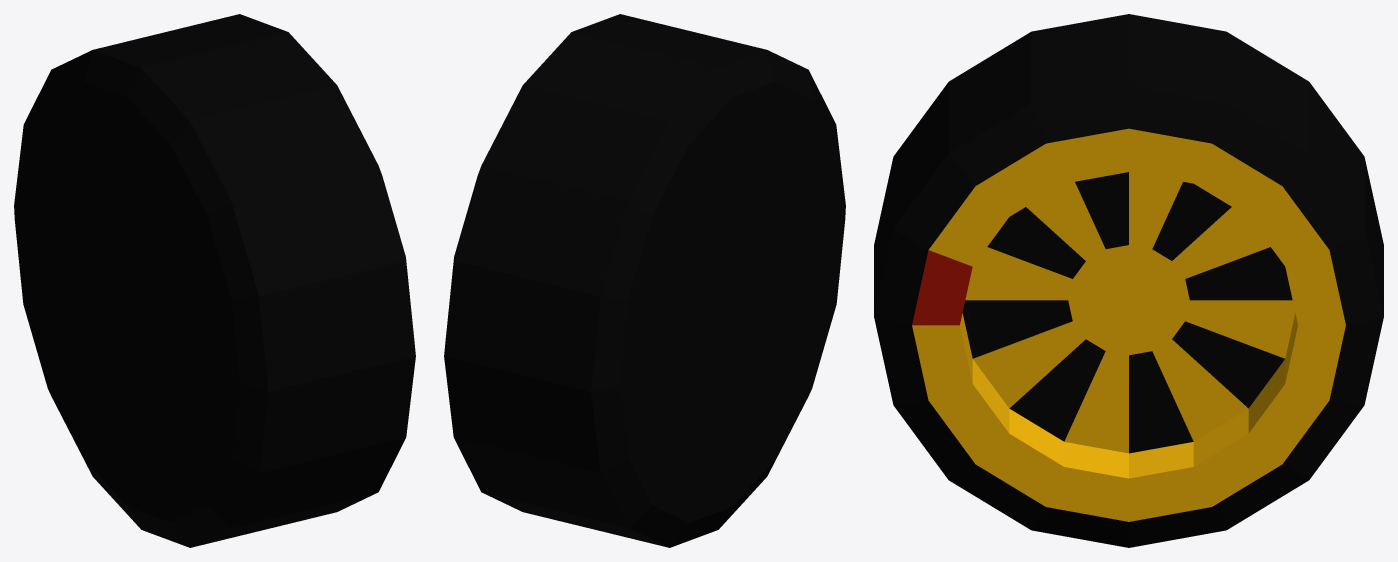
Rendered from RallyWheelTest.fbx.
3 views of the same model, side by side, from view 1: azimuth 30°, elevation 25°; view 2: azimuth 150°, elevation 25°; view 3: azimuth 270°, elevation 25° (orthographic).
Visible parts, largest first — view 1: Wheel FrontLeft; view 2: Wheel FrontLeft; view 3: Wheel FrontLeft.
Part boxes in pixels (x1=…): Wheel FrontLeft: x1=14, y1=14, x2=415, y2=547; Wheel FrontLeft: x1=444, y1=14, x2=845, y2=547; Wheel FrontLeft: x1=874, y1=14, x2=1383, y2=547.
Bounding box in the file's own units: 24.74 × 61.29 × 61.29.
